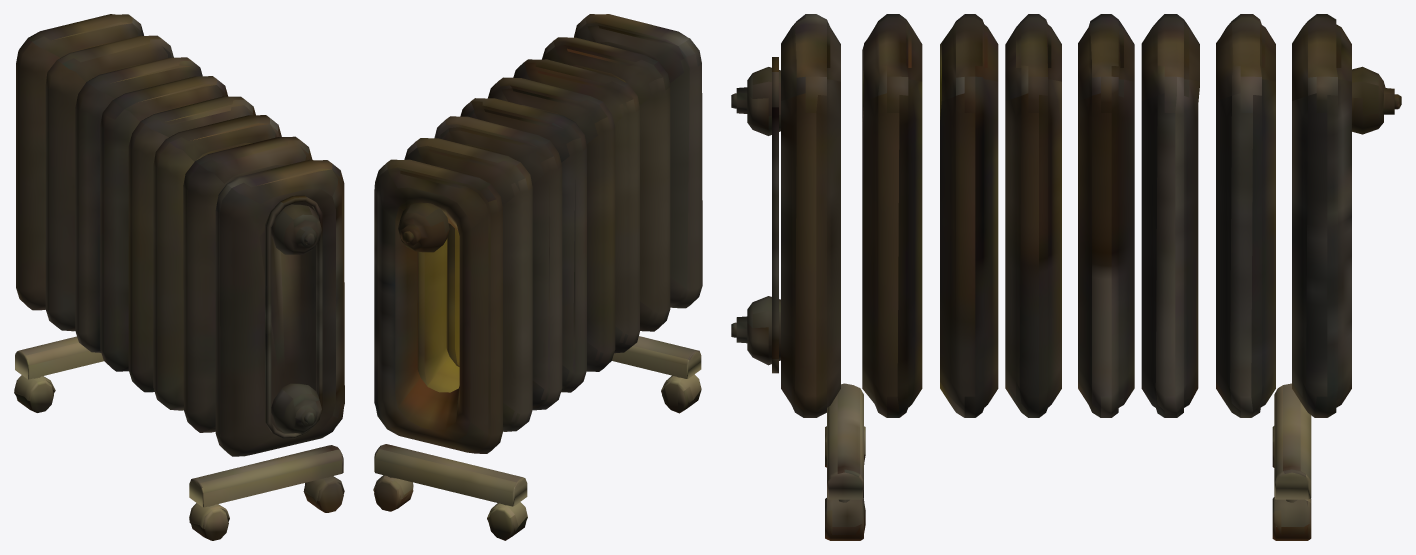
File: OparetionRoom_AI_Prop.040.fbx
The picture shows the model from 3 angles, left to right: view 1: azimuth 30°, elevation 25°; view 2: azimuth 150°, elevation 25°; view 3: azimuth 270°, elevation 25°; orthographic projection. The views are drawn at different scales.
Visible parts, largest first — view 1: OparetionRoom_AI_Prop.040; view 2: OparetionRoom_AI_Prop.040; view 3: OparetionRoom_AI_Prop.040.
Boxes of the visible parts, x1,y1,x2,y2 form: OparetionRoom_AI_Prop.040: (14,14,344,540); OparetionRoom_AI_Prop.040: (373,14,702,540); OparetionRoom_AI_Prop.040: (731,14,1401,540).
Bounding box in the file's own units: 35.65 × 84.15 × 111.
